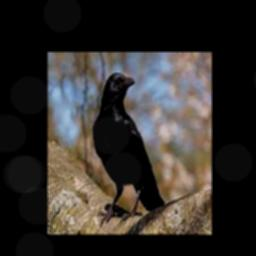Crow: (92, 73, 165, 224)
